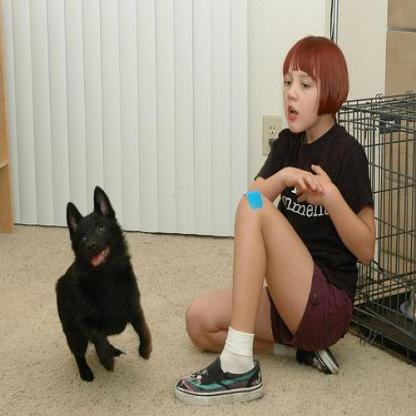schipperke: (52, 181, 152, 382)
